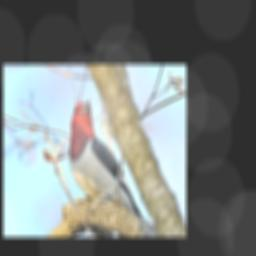Woodpecker: (64, 93, 148, 232)
